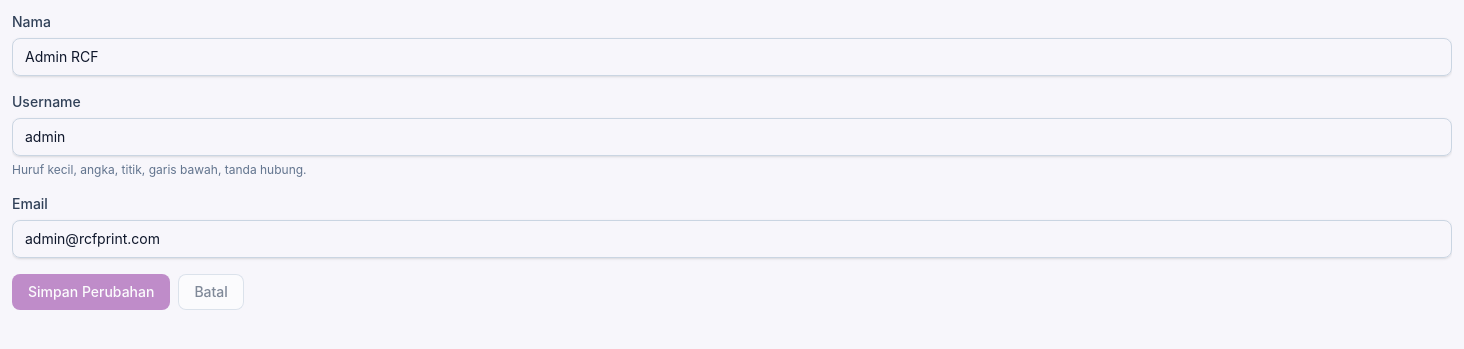
Test: EditProfileForm — validasi › menolak format email yang salah
The image size is (1464, 349).
Replace the text in the field labelled "Email" with "bukan-email": (732, 239) [12,220,1452,258]
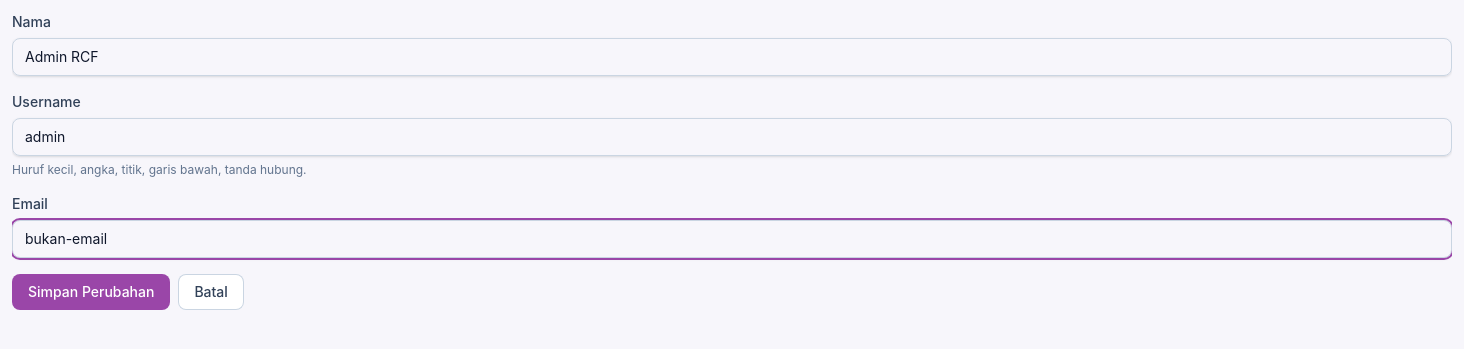
Click the button "Simpan Perubahan": (91, 292) [12,274,170,310]
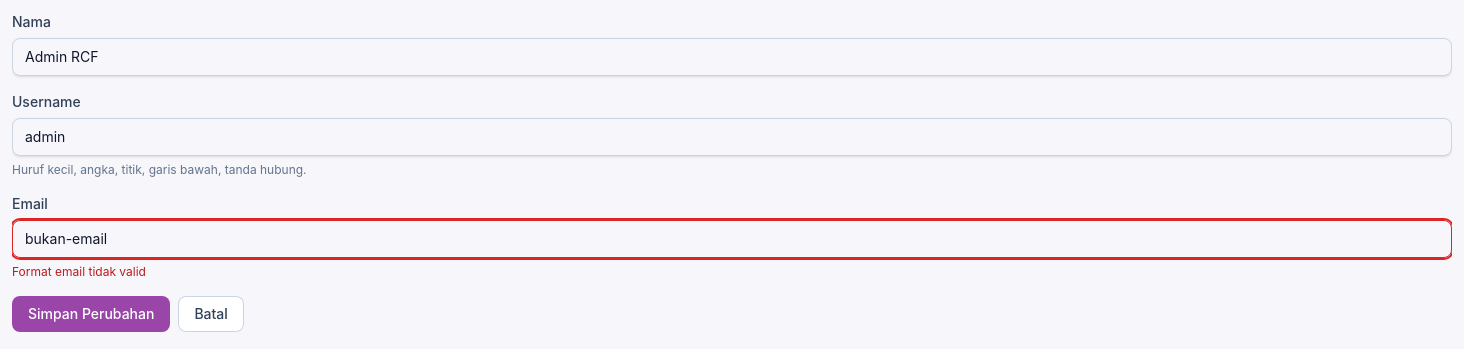
Now the text "Format email tidak valid" is shown, box [12,264,146,279]
